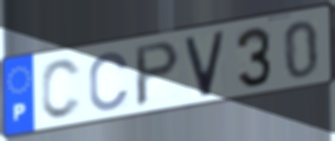0: (281, 18, 322, 81)
3: (234, 24, 273, 89)
C: (39, 56, 83, 122), (87, 50, 131, 114)
P: (134, 38, 183, 110)
V: (182, 28, 227, 100)
